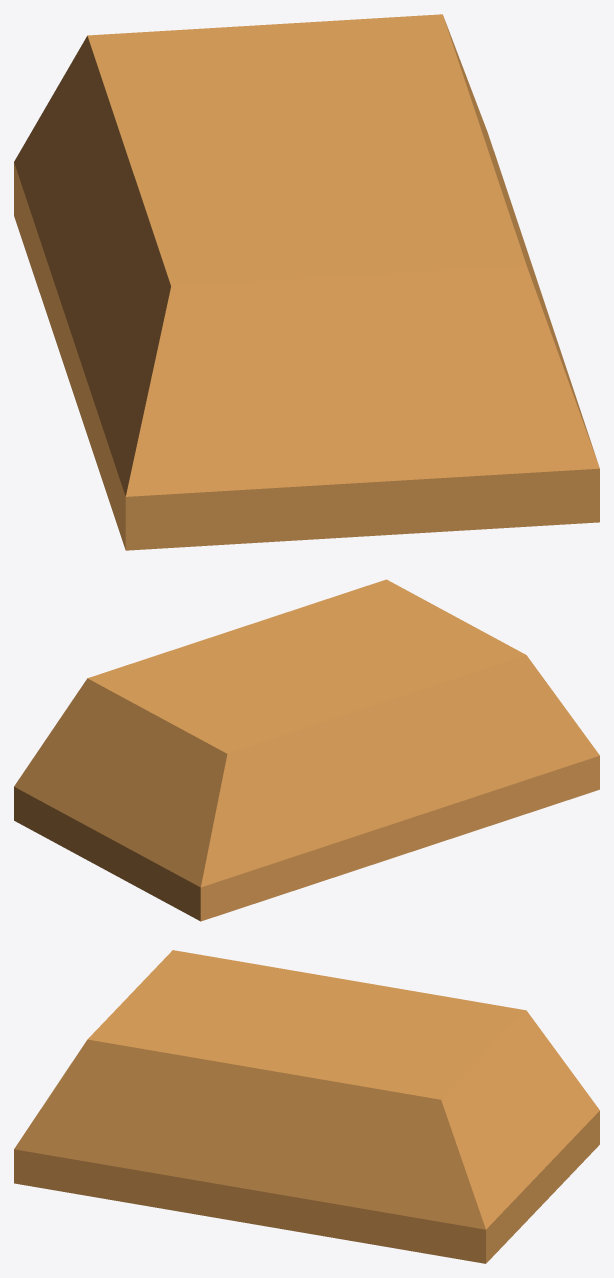
The model's file is copperbar.fbx.
The picture shows the model from 3 angles, top to bottom: view 1: azimuth 30°, elevation 25°; view 2: azimuth 150°, elevation 25°; view 3: azimuth 270°, elevation 25°; orthographic projection. The views are drawn at different scales.
Visible parts, largest first — view 1: CopperBar; view 2: CopperBar; view 3: CopperBar.
Boxes of the visible parts, x1,y1,x2,y2 form: CopperBar: (14, 14, 599, 550); CopperBar: (14, 579, 599, 921); CopperBar: (14, 950, 599, 1263).
Bounding box in the file's own units: 58.12 × 18.86 × 72.02.
